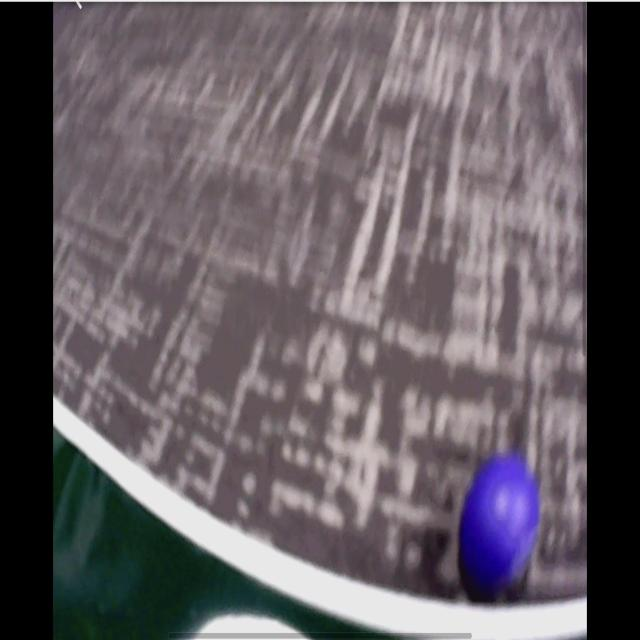ball: (463, 457, 540, 584)
